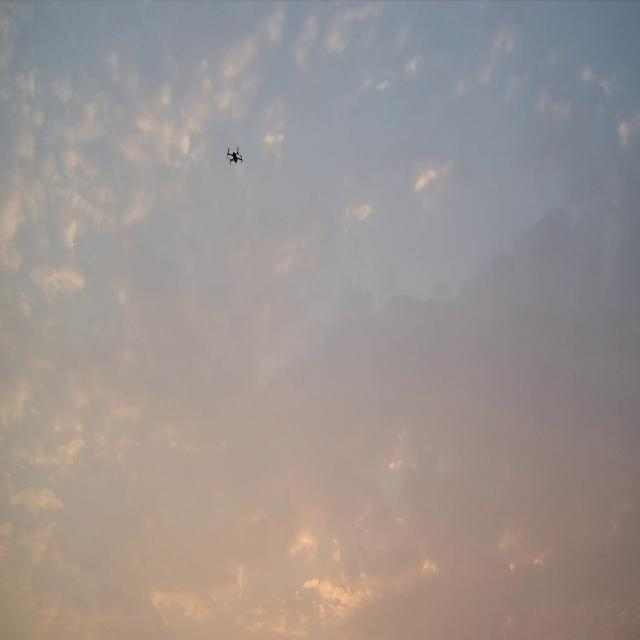drone: (226, 146, 244, 165)
